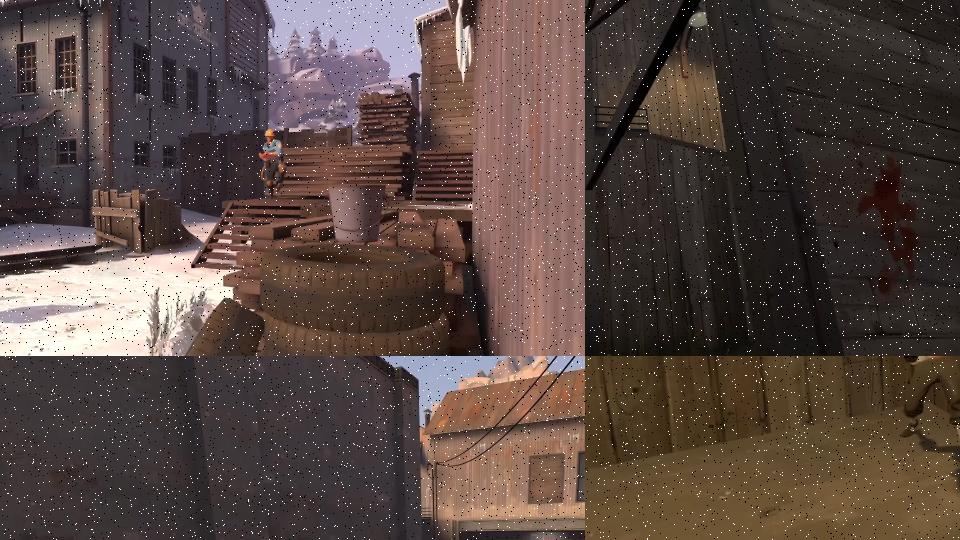Enemy: (898, 356, 960, 469), (258, 129, 287, 201)
